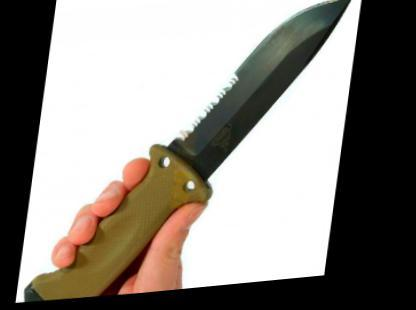knife: (55, 0, 359, 274)
